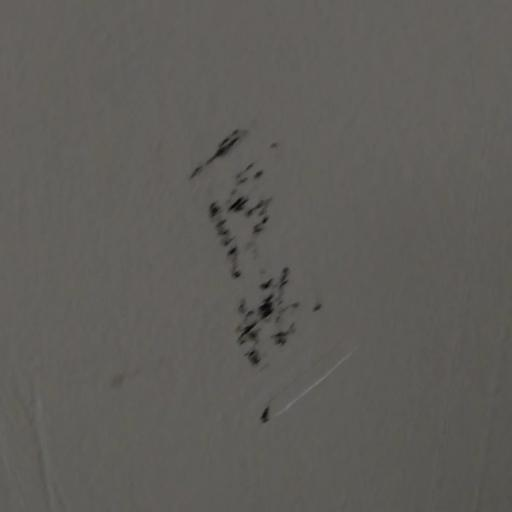stain: (159, 73, 391, 459)
